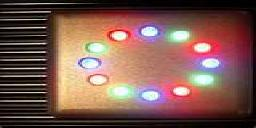LED: (108, 25, 135, 47), (82, 41, 107, 59), (139, 23, 161, 41)
